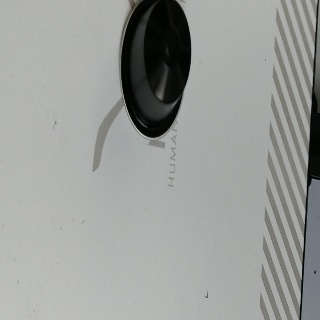capsule_10: (118, 1, 193, 141)
